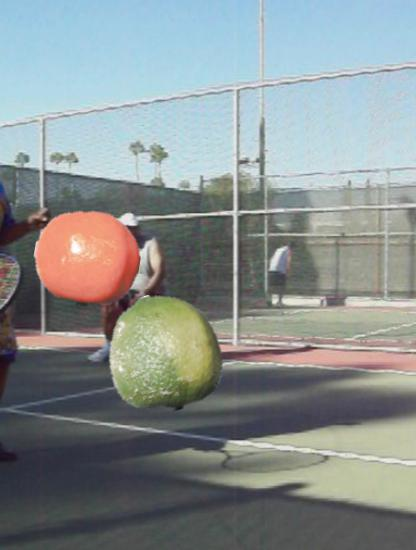Clementine: (34, 205, 141, 312)
Limes: (104, 293, 223, 412)
